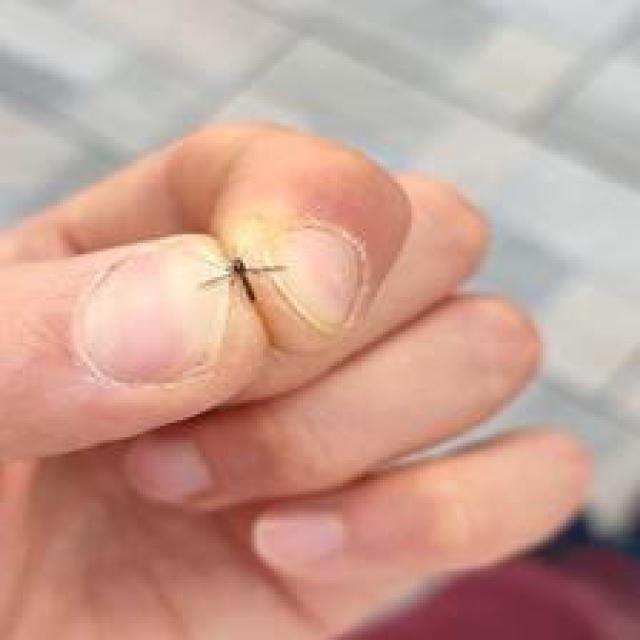Aedes albopictus: (199, 253, 287, 304)
